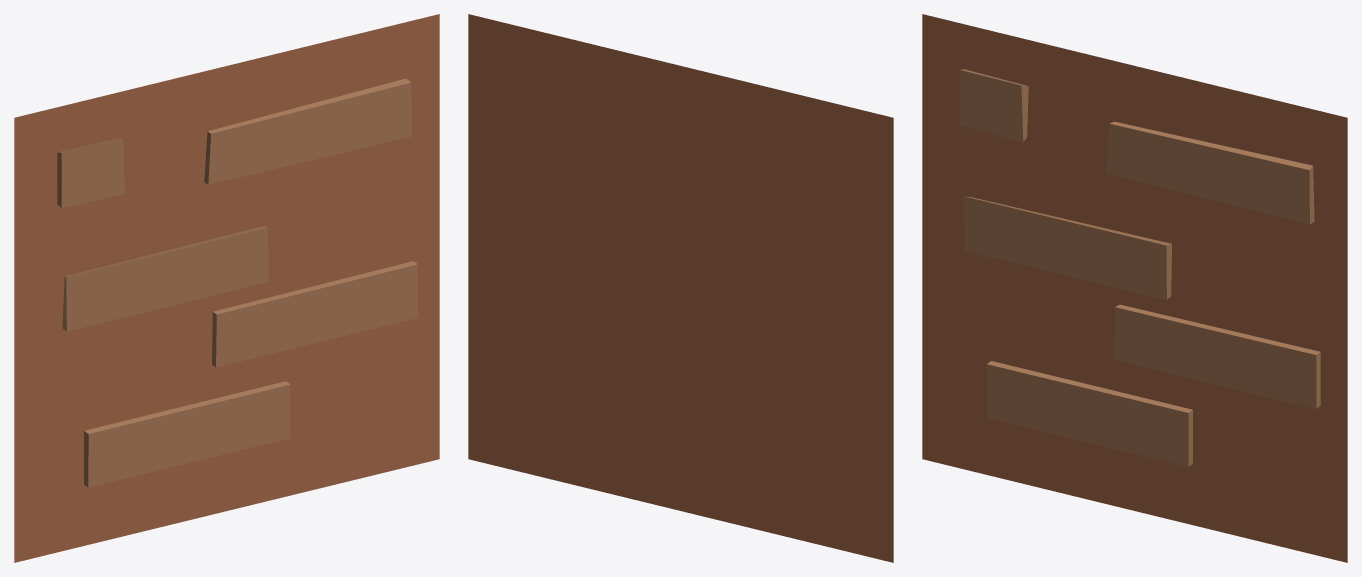
Rendered from Ext-BrickV3HalfWallSmall.fbx.
3 renders of one model, left to right at view 1: azimuth 30°, elevation 25°; view 2: azimuth 150°, elevation 25°; view 3: azimuth 330°, elevation 25°, orthographic.
Parts seen in each view (by area): view 1: Ext-BrickV3HalfWallSmall; view 2: Ext-BrickV3HalfWallSmall; view 3: Ext-BrickV3HalfWallSmall.
Part boxes in pixels (bbox=[...]): Ext-BrickV3HalfWallSmall: bbox=[14, 14, 439, 562]; Ext-BrickV3HalfWallSmall: bbox=[468, 14, 893, 562]; Ext-BrickV3HalfWallSmall: bbox=[922, 14, 1347, 562].
Size of the model in its own units: 100 by 100 by 2.
